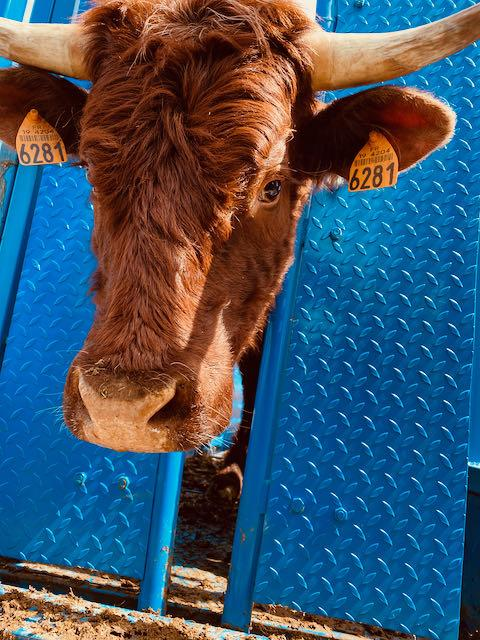muzzles: (57, 359, 226, 465)
